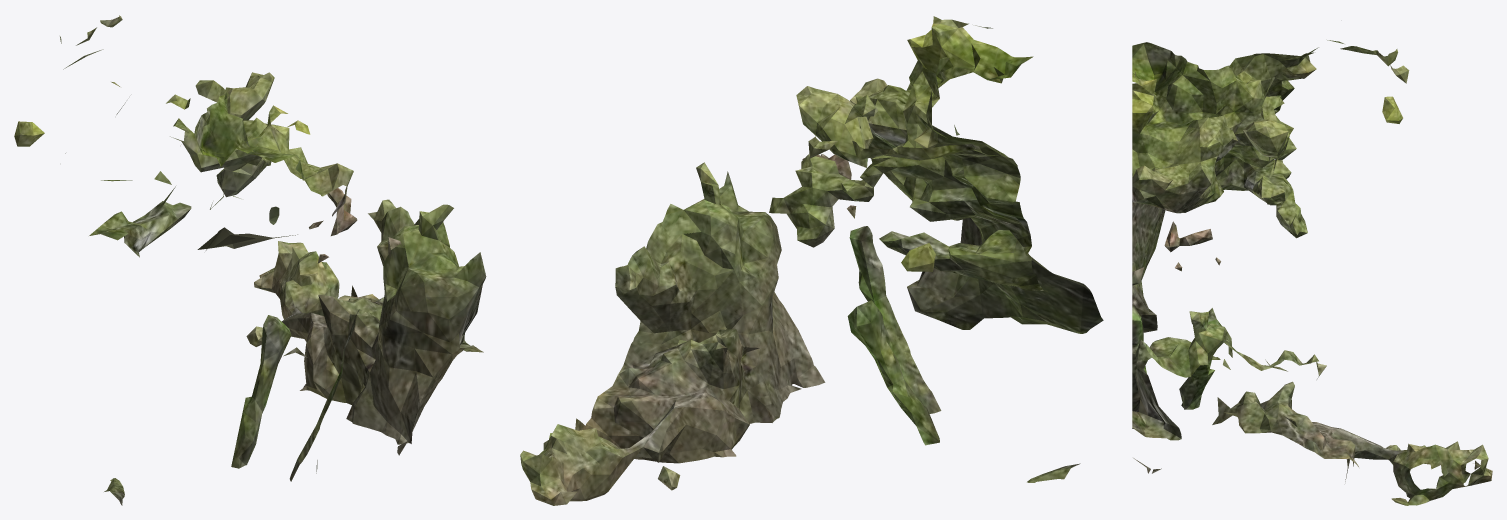
The picture shows the model from 3 angles, left to right: view 1: azimuth 30°, elevation 25°; view 2: azimuth 150°, elevation 25°; view 3: azimuth 270°, elevation 25°; orthographic projection. The views are drawn at different scales.
Size of the model in its own units: 5.9 by 5.9 by 5.74.
Materials: 4 (4 with a texture image).
